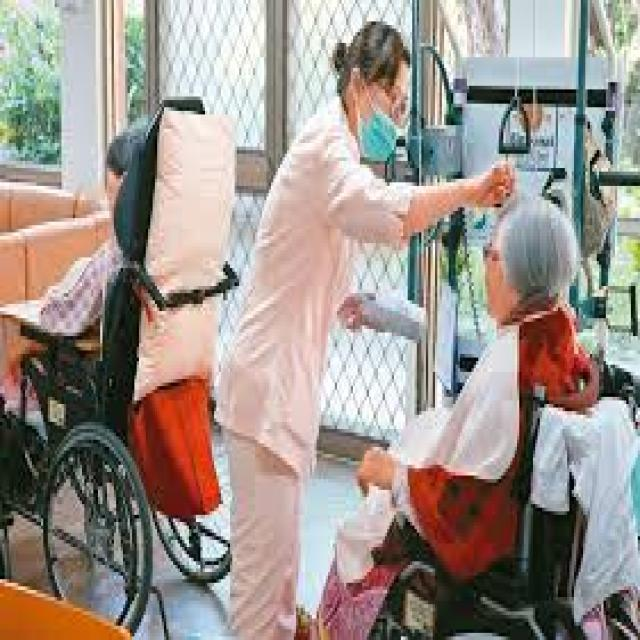wheelchairs: (0, 89, 262, 615), (350, 311, 638, 636)
